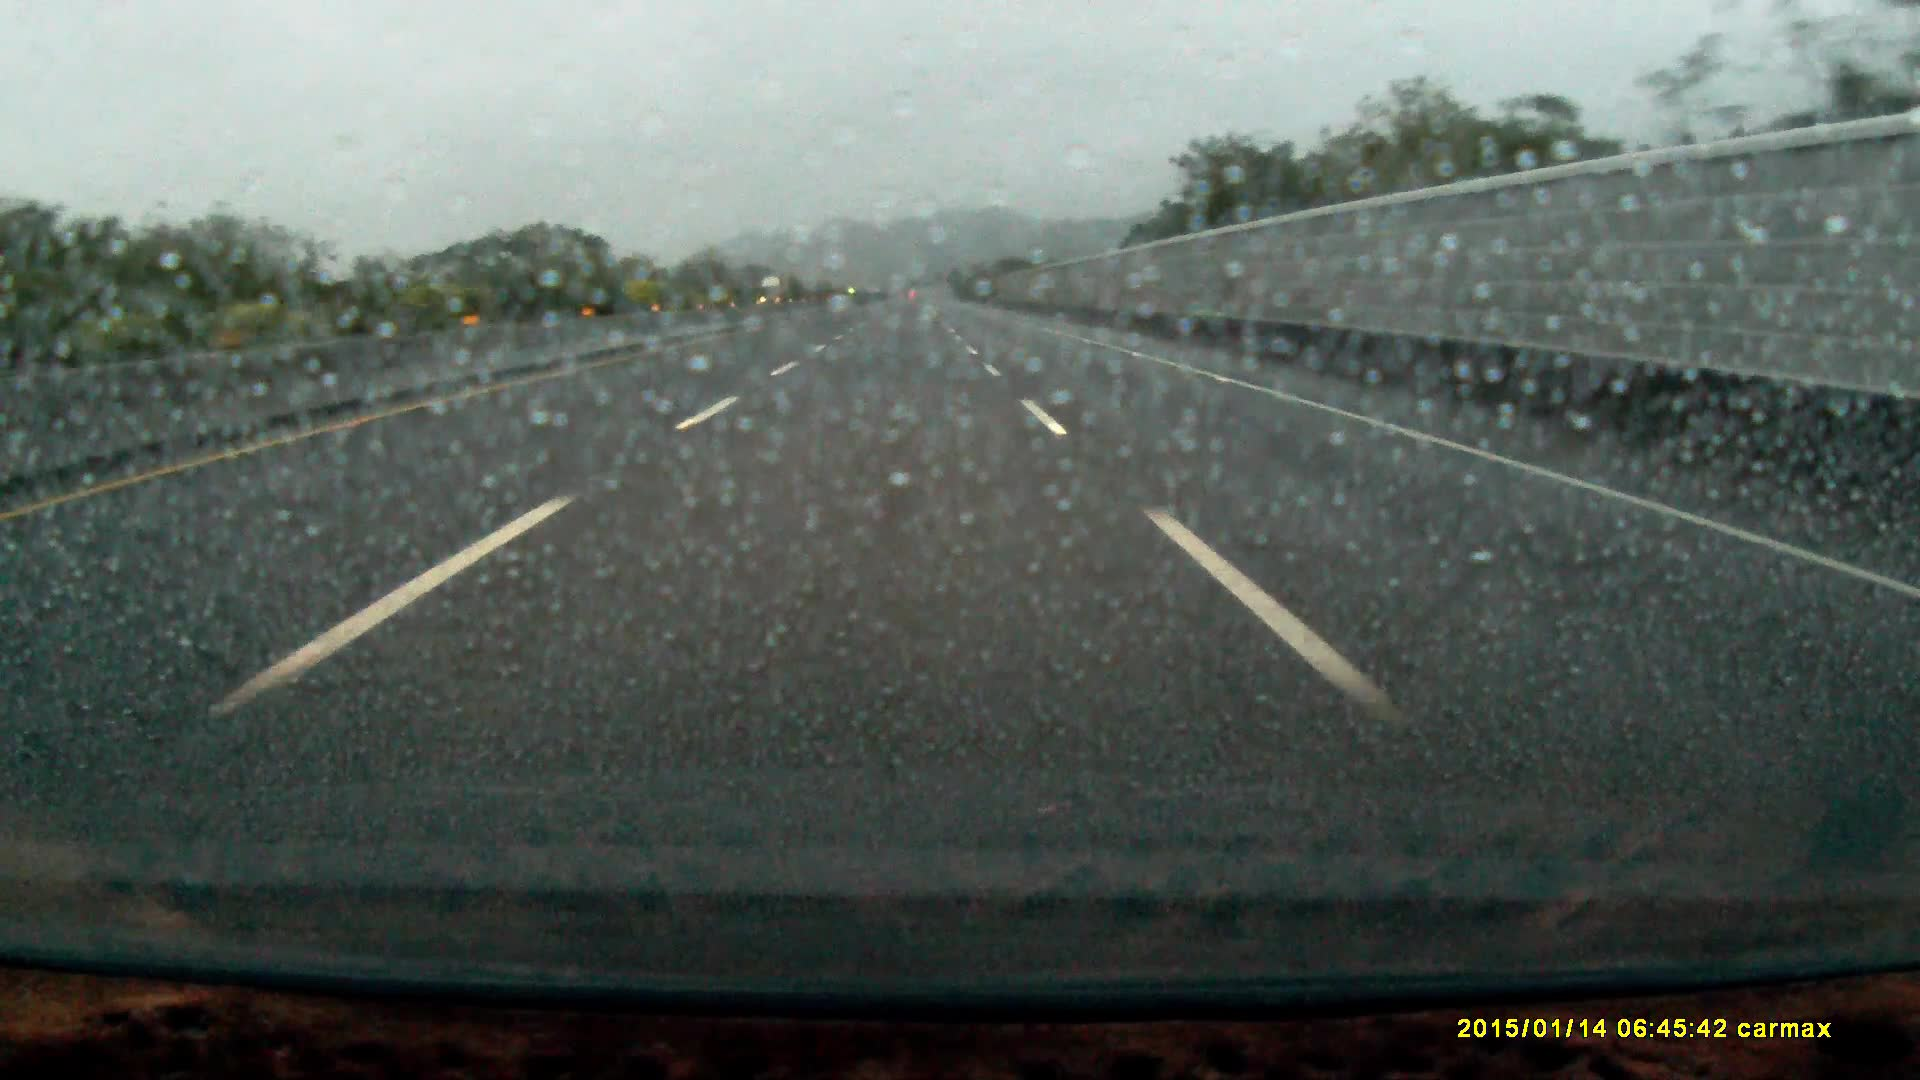vehicle: (760, 278, 789, 307)
